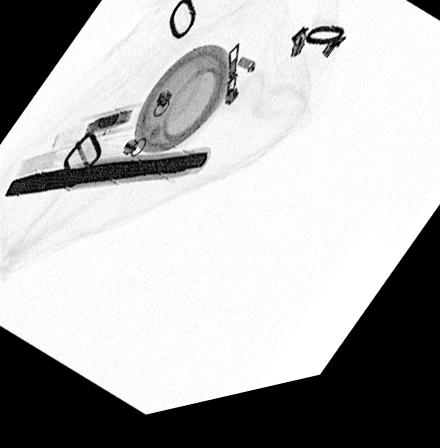Pliers: (3, 157, 210, 201)
